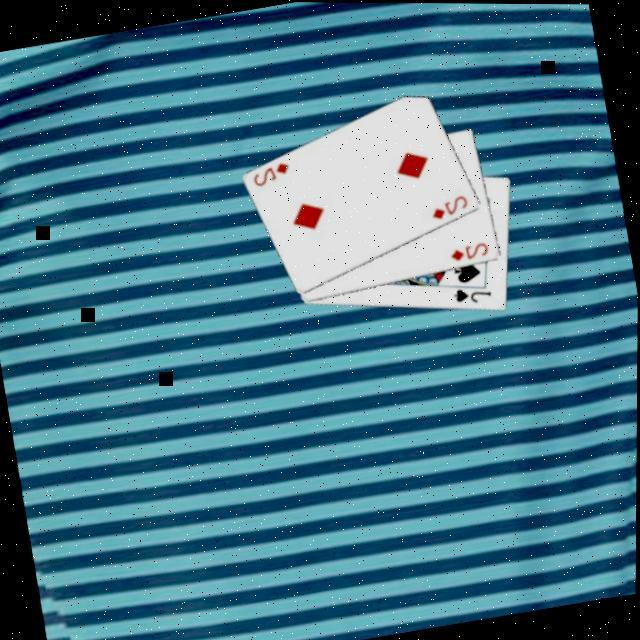2D: (248, 158, 294, 191), (426, 192, 472, 224), (446, 240, 492, 267)
JS: (449, 282, 494, 311)
